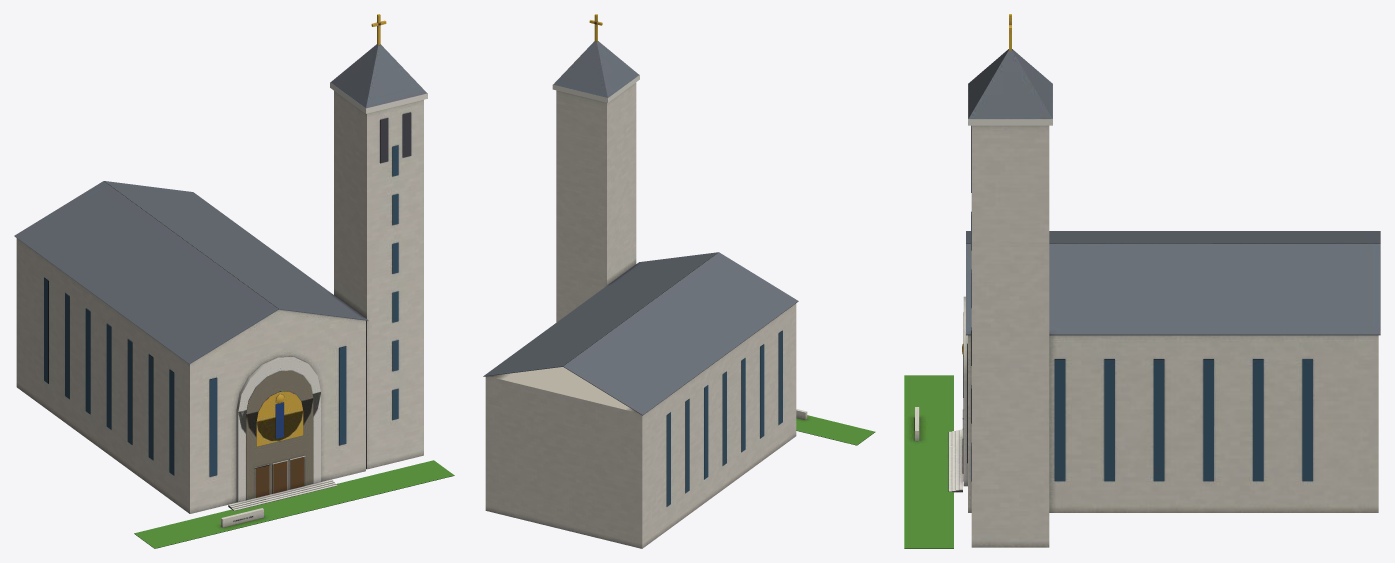
File: catedral_san_jose.glb
The picture shows the model from 3 angles, left to right: view 1: azimuth 30°, elevation 25°; view 2: azimuth 150°, elevation 25°; view 3: azimuth 270°, elevation 25°; orthographic projection. The views are drawn at different scales.
Visible parts, largest first — view 1: catedral_san_jose; view 2: catedral_san_jose; view 3: catedral_san_jose.
Boxes of the visible parts, bbox=[...] form: catedral_san_jose: bbox=[14, 14, 454, 548]; catedral_san_jose: bbox=[483, 14, 875, 548]; catedral_san_jose: bbox=[904, 14, 1380, 548].
Size of the model in its own units: 58 by 80.5 by 67.3.
Materials: 1 (1 with a texture image).
